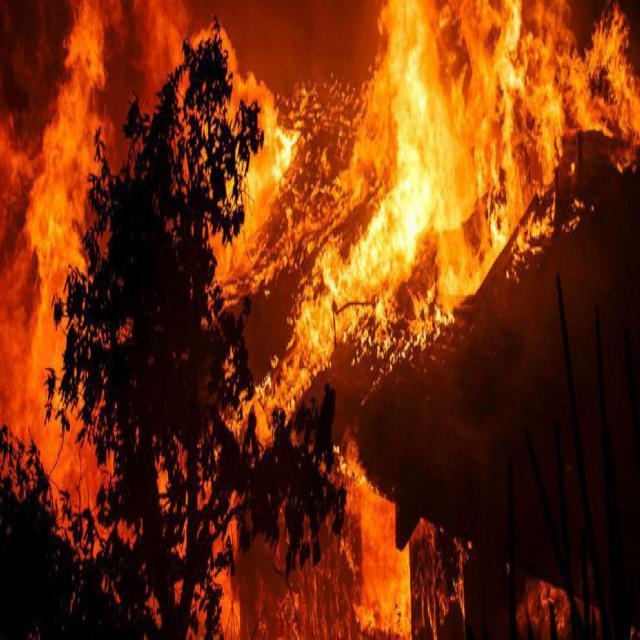Fire: (9, 14, 639, 639)
